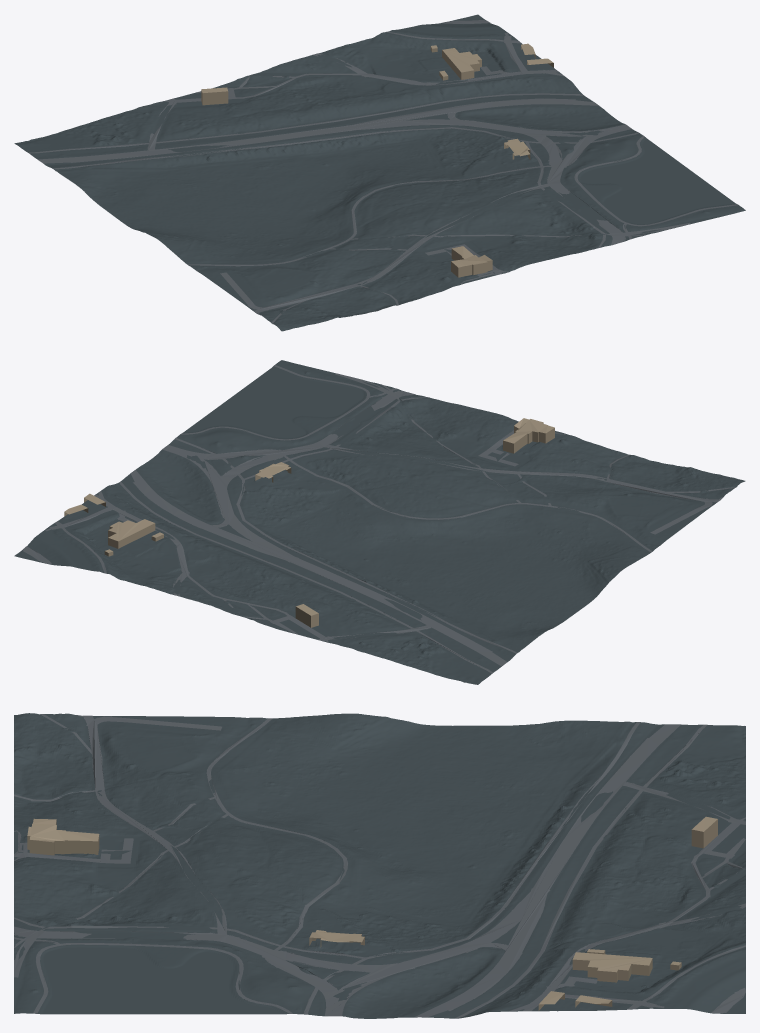
Rendered from epsg26910-1417-10886.lod0.glb.
3 renders of one model, top to bottom at view 1: azimuth 30°, elevation 25°; view 2: azimuth 150°, elevation 25°; view 3: azimuth 270°, elevation 25°, orthographic. The views are drawn at different scales.
Parts seen in each view (by area): view 1: epsg26910-1417-10886-lod0; view 2: epsg26910-1417-10886-lod0; view 3: epsg26910-1417-10886-lod0.
Boxes of the visible parts, x1=… form: epsg26910-1417-10886-lod0: x1=14, y1=14, x2=745, y2=331; epsg26910-1417-10886-lod0: x1=14, y1=360, x2=745, y2=684; epsg26910-1417-10886-lod0: x1=14, y1=713, x2=745, y2=1018.
Bounding box in the file's own units: 384 × 19.2 × 384.
